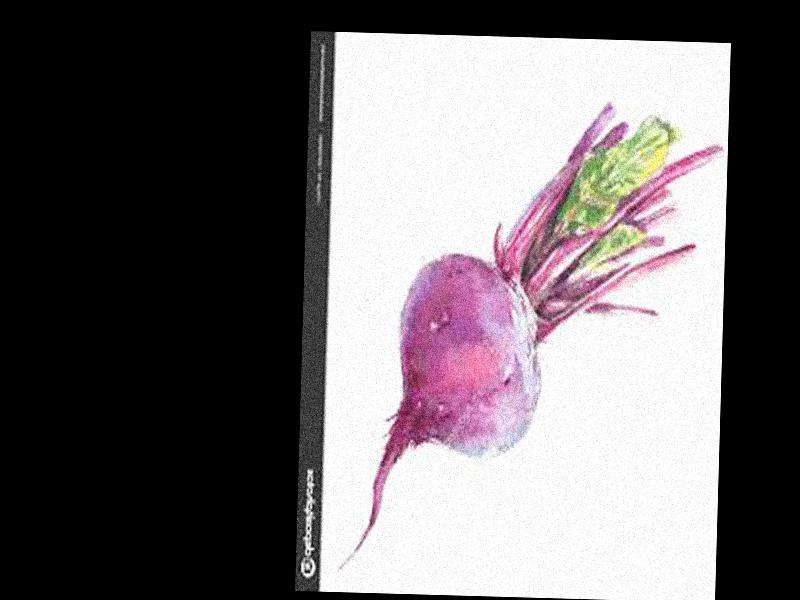Beet: (339, 96, 725, 579)
